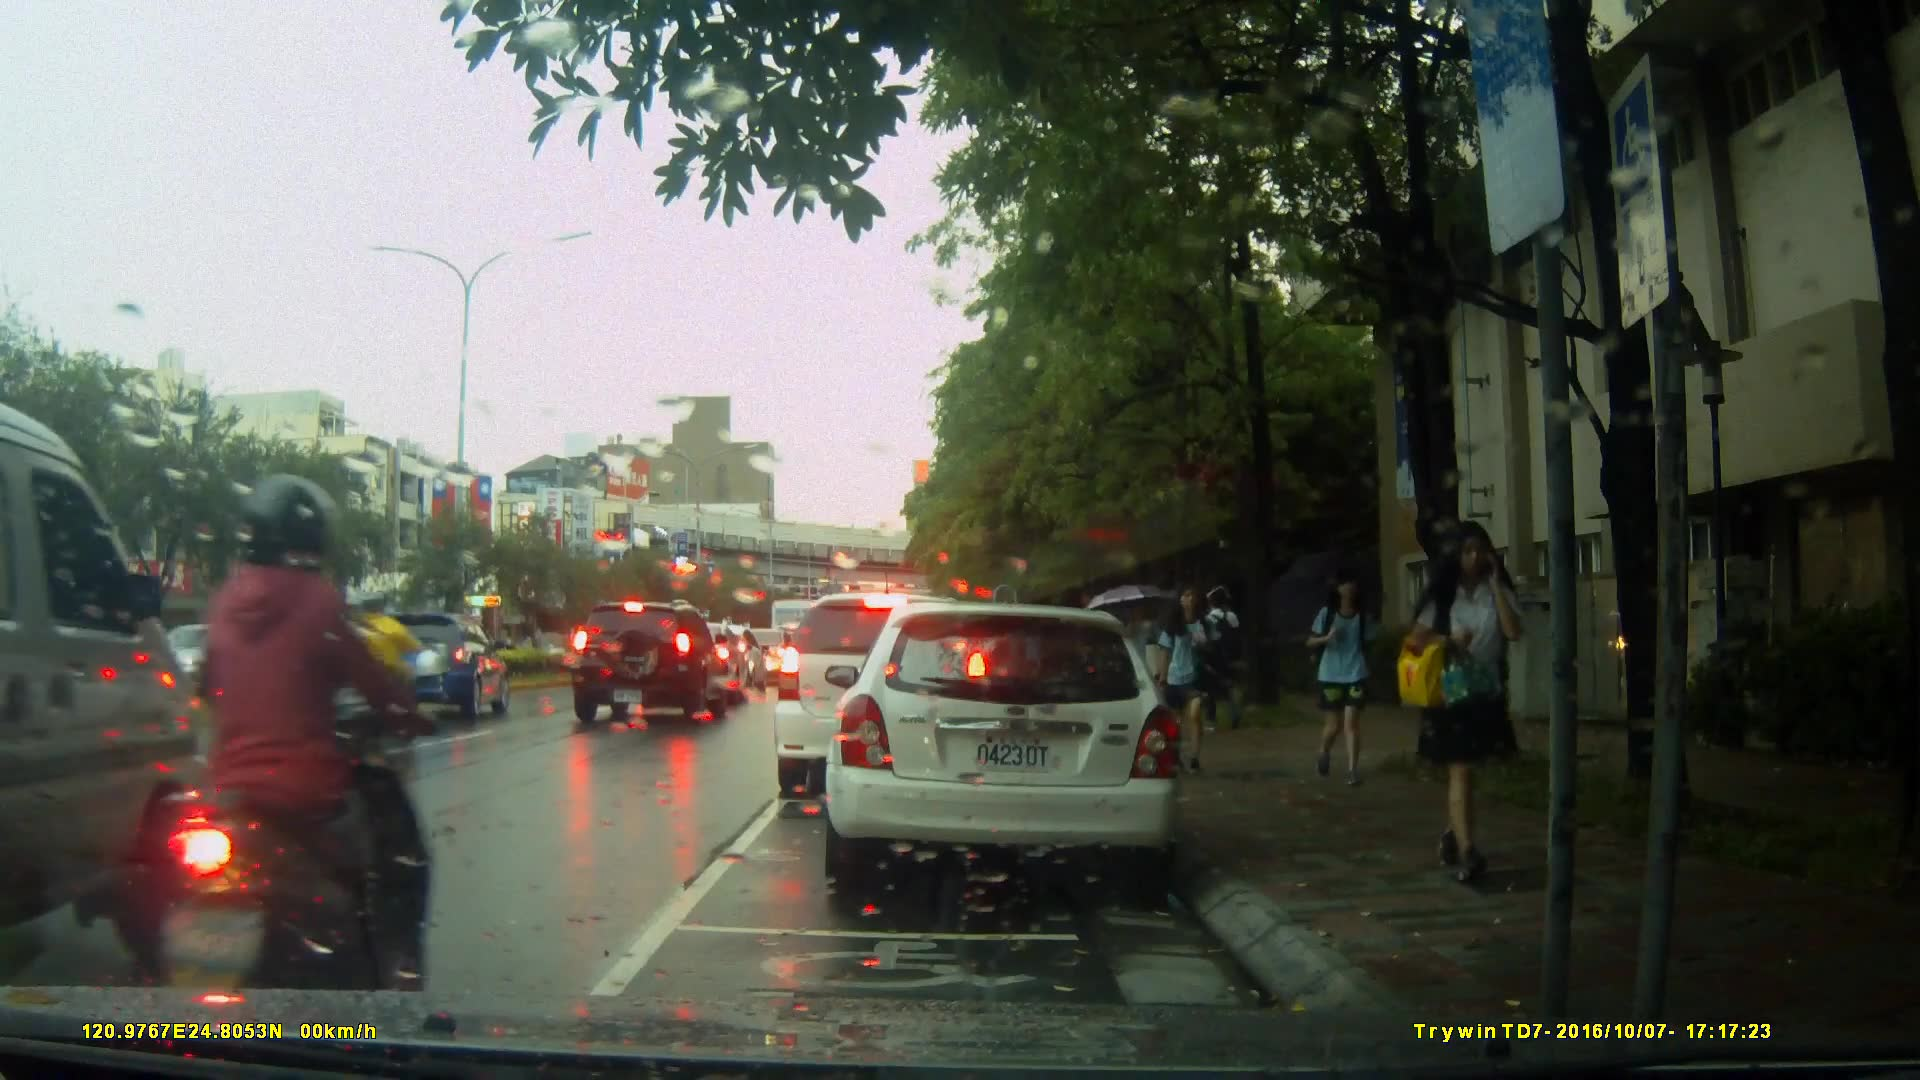pedestrian: (1420, 506, 1534, 878), (1303, 563, 1375, 790), (1167, 568, 1241, 763)
rider: (148, 478, 442, 1040), (343, 590, 419, 745)
vehicle: (1, 393, 271, 978), (815, 593, 1204, 909), (771, 590, 994, 802), (568, 600, 733, 726), (360, 612, 516, 720)
